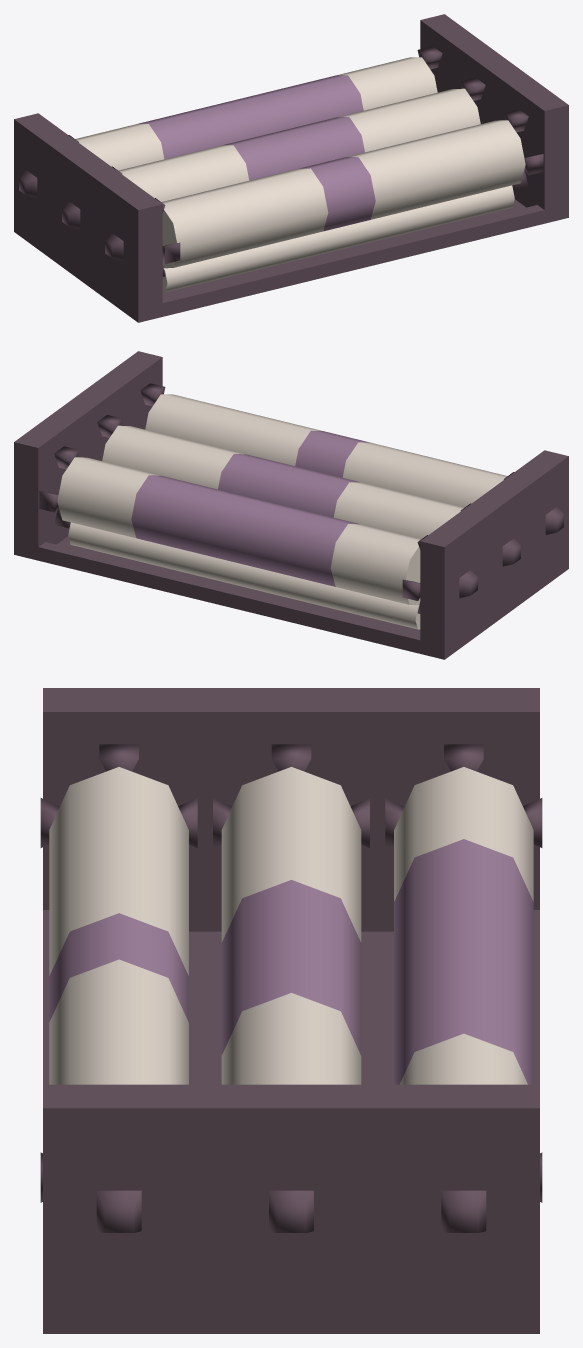
The model's file is GB_103_107_111_115_conveyor_belt.glb.
3 renders of one model, top to bottom at view 1: azimuth 30°, elevation 25°; view 2: azimuth 150°, elevation 25°; view 3: azimuth 270°, elevation 25°, orthographic. The views are drawn at different scales.
Visible parts, largest first — view 1: Rolls, Conveyor_Belt, ThinRolls, Bearing.002, Bearing.004, Bearing.005, Bearing.003; view 2: Rolls, Conveyor_Belt, ThinRolls, Bearing.001, Bearing.005, Bearing.004, Bearing.003; view 3: Conveyor_Belt, Rolls, Bearing.004, Bearing.005, Bearing.003, Bearing.001, Bearing.002, Bearing.
Boxes of the visible parts, left/top/right/bottom form: Rolls: left=75, top=57, right=525, bottom=268; Conveyor_Belt: left=14, top=14, right=568, bottom=322; ThinRolls: left=162, top=185, right=514, bottom=292; Bearing.002: left=503, top=109, right=543, bottom=191; Bearing.004: left=105, top=198, right=180, bottom=276; Bearing.005: left=19, top=135, right=78, bottom=197; Bearing.003: left=62, top=166, right=122, bottom=229; Rolls: left=57, top=394, right=507, bottom=605; Conveyor_Belt: left=14, top=351, right=568, bottom=659; ThinRolls: left=68, top=522, right=420, bottom=629; Bearing.001: left=39, top=446, right=79, bottom=528; Bearing.005: left=402, top=535, right=477, bottom=613; Bearing.004: left=504, top=472, right=563, bottom=534; Bearing.003: left=460, top=503, right=520, bottom=566; Conveyor_Belt: left=43, top=688, right=539, bottom=1333; Rolls: left=49, top=767, right=533, bottom=1084; Bearing.004: left=40, top=744, right=197, bottom=847; Bearing.005: left=385, top=744, right=542, bottom=847; Bearing.003: left=213, top=744, right=369, bottom=847; Bearing.001: left=441, top=1152, right=542, bottom=1232; Bearing.002: left=40, top=1152, right=141, bottom=1232; Bearing: left=269, top=1190, right=313, bottom=1232.
Size of the model in its own units: 1.57 by 0.375 by 0.7569.
